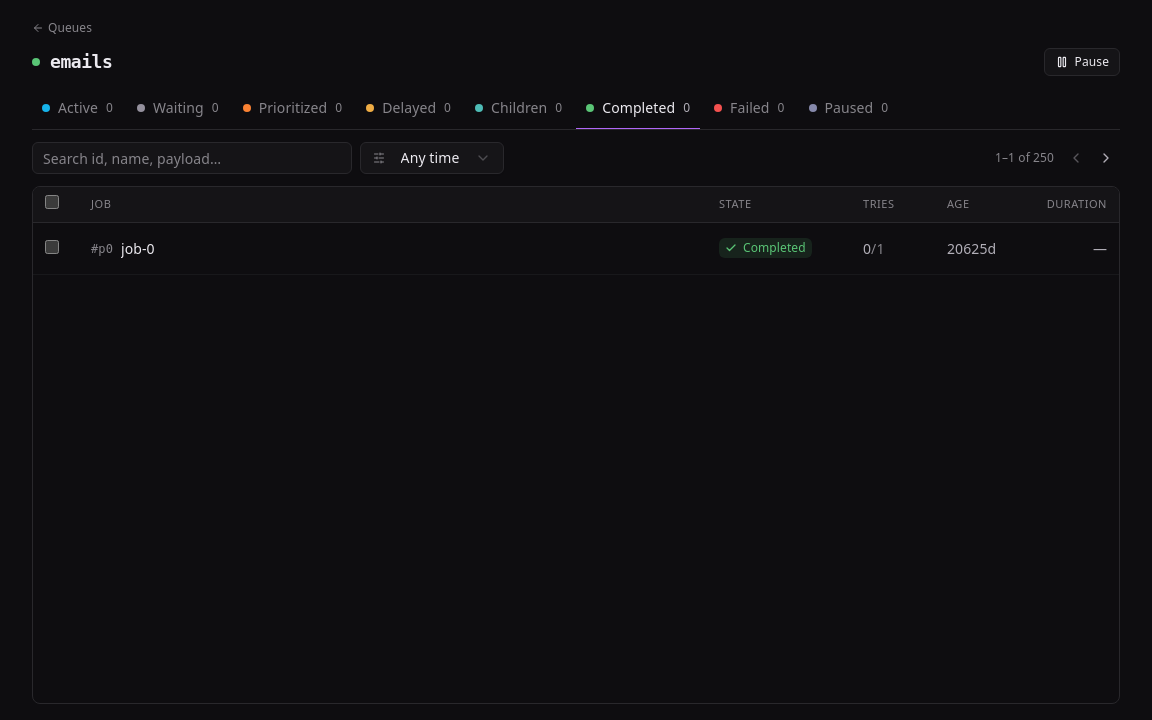
Scenario: JobsPage › paginates: clicking Next requests the following page
Expected: the text "job-0" is shown, [121, 238, 155, 258]
Click the button named "Next page": click(1106, 158) [1092, 144, 1120, 172]
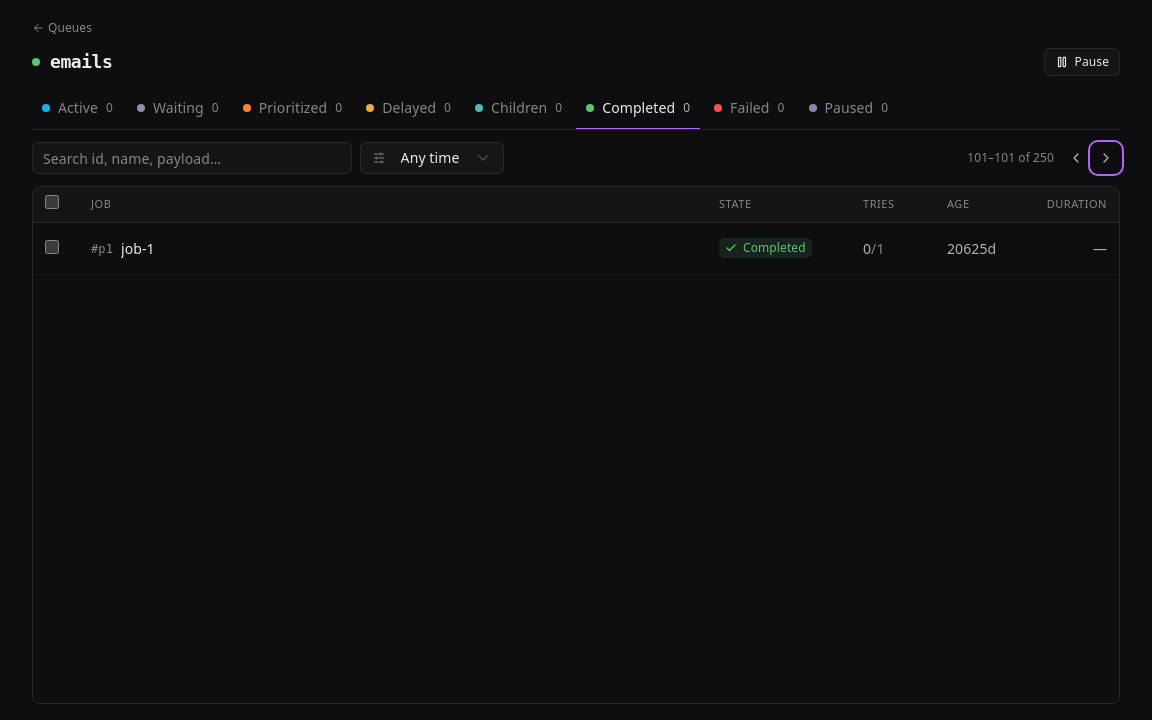
Expected: the text "job-1" is shown, [121, 238, 155, 258]
